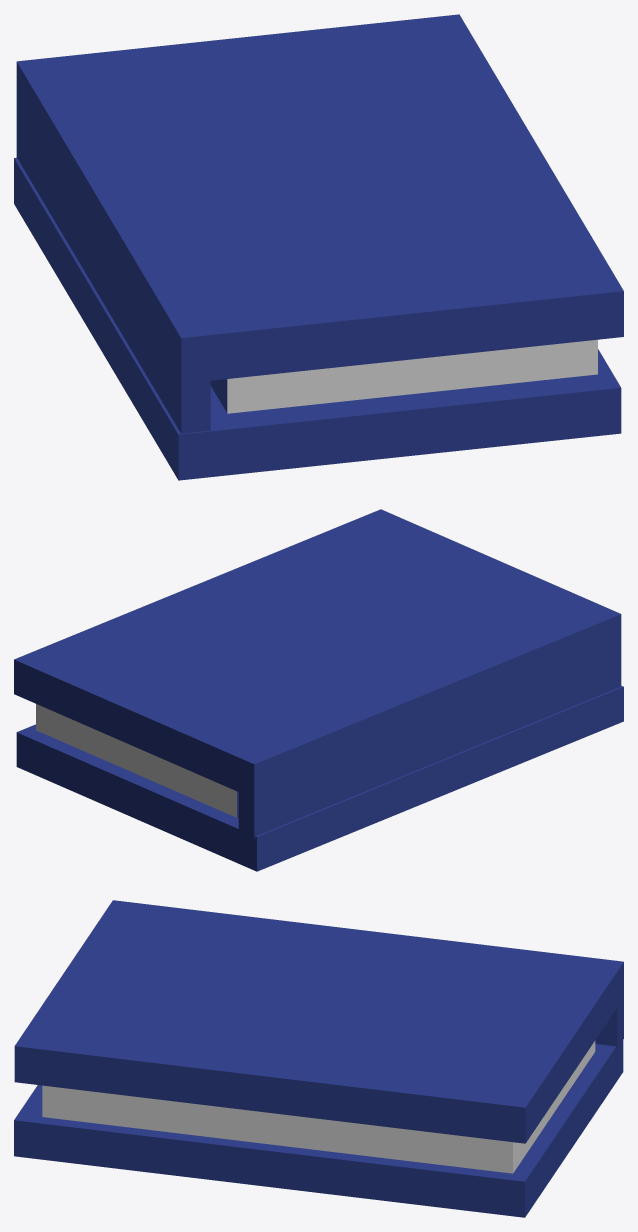
File: book3.glb
3 views of the same model, one above another, from view 1: azimuth 30°, elevation 25°; view 2: azimuth 150°, elevation 25°; view 3: azimuth 270°, elevation 25° (orthographic). The views are drawn at different scales.
Parts seen in each view (by area): view 1: Cube.002; view 2: Cube.002; view 3: Cube.002.
Part boxes in pixels (x1,y1,x2,y2): Cube.002: (14,14,623,480); Cube.002: (14,509,623,871); Cube.002: (14,900,623,1217).
Bounding box in the file's own units: 5.86 × 1.46 × 7.24.
